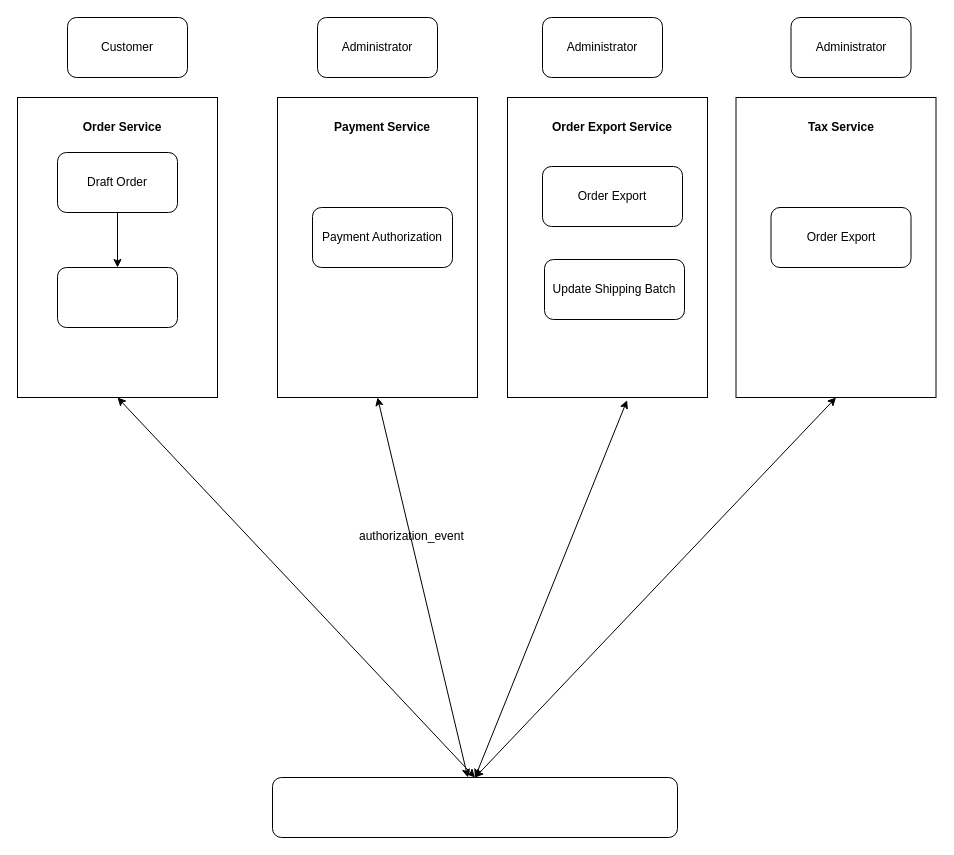
This 954x855 diagram has some shape labels left out. Here are the shapes that lost their labels. From the top down, the box of each, then its label:
(56, 266, 178, 328): Place Order
(272, 776, 678, 838): Rabbit MQ
